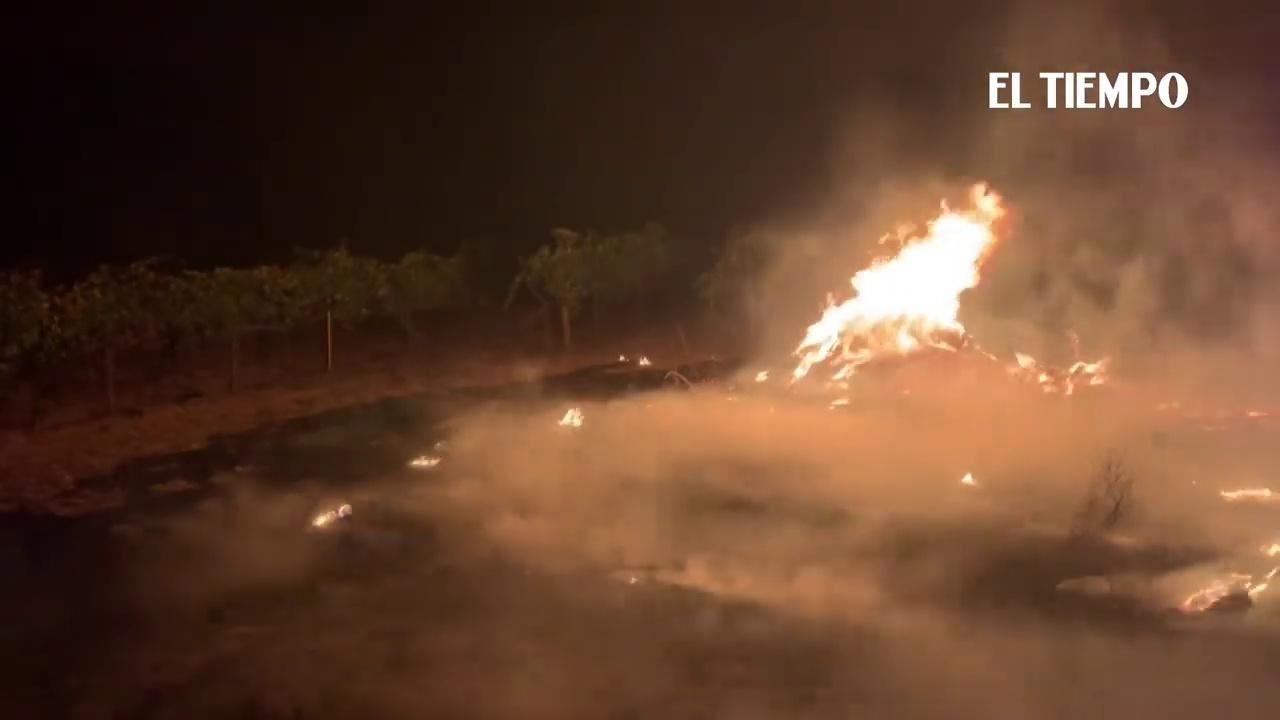Fire: (788, 183, 1004, 401), (1179, 543, 1278, 610), (1017, 346, 1114, 395), (1217, 481, 1271, 500), (314, 504, 356, 528), (556, 405, 585, 430), (408, 455, 445, 471), (964, 469, 980, 491), (752, 370, 772, 384), (639, 351, 653, 366)
